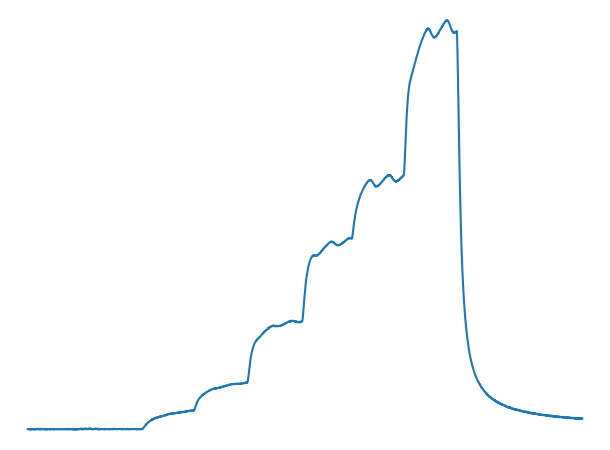decrease: (442, 11, 465, 45)
increase: (228, 369, 256, 392), (389, 164, 411, 189), (334, 227, 358, 249), (289, 309, 310, 329), (133, 420, 158, 435), (181, 400, 203, 415)
